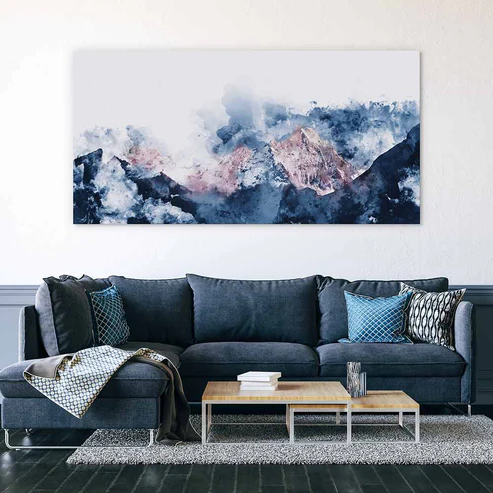painting: (72, 49, 421, 225)
